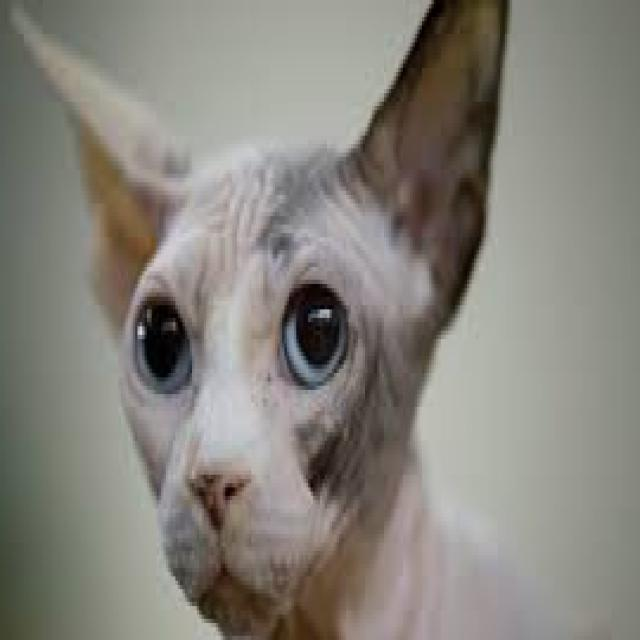Sphynx: (5, 0, 626, 640)
